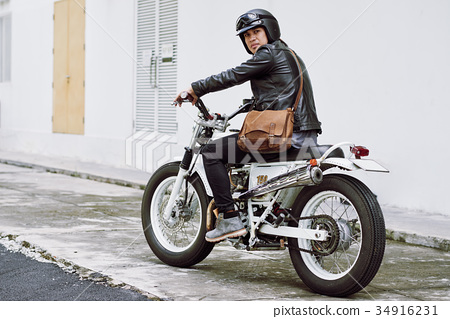helmet: (235, 7, 281, 37)
